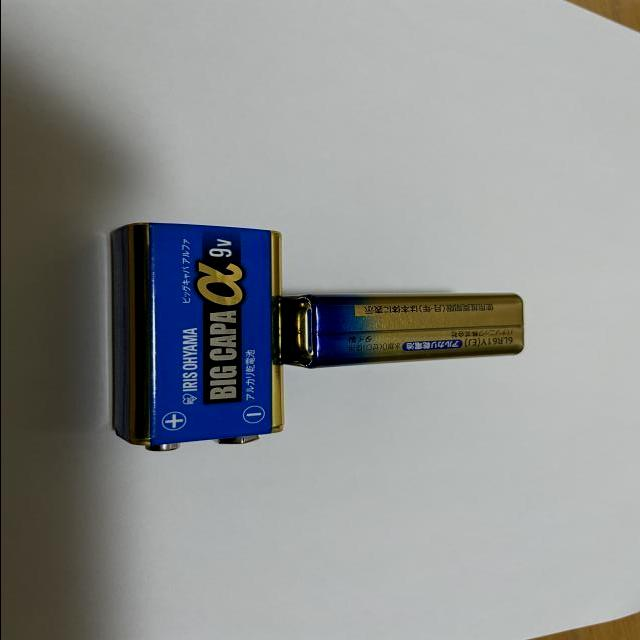9V: (110, 223, 284, 451), (278, 291, 524, 370)
